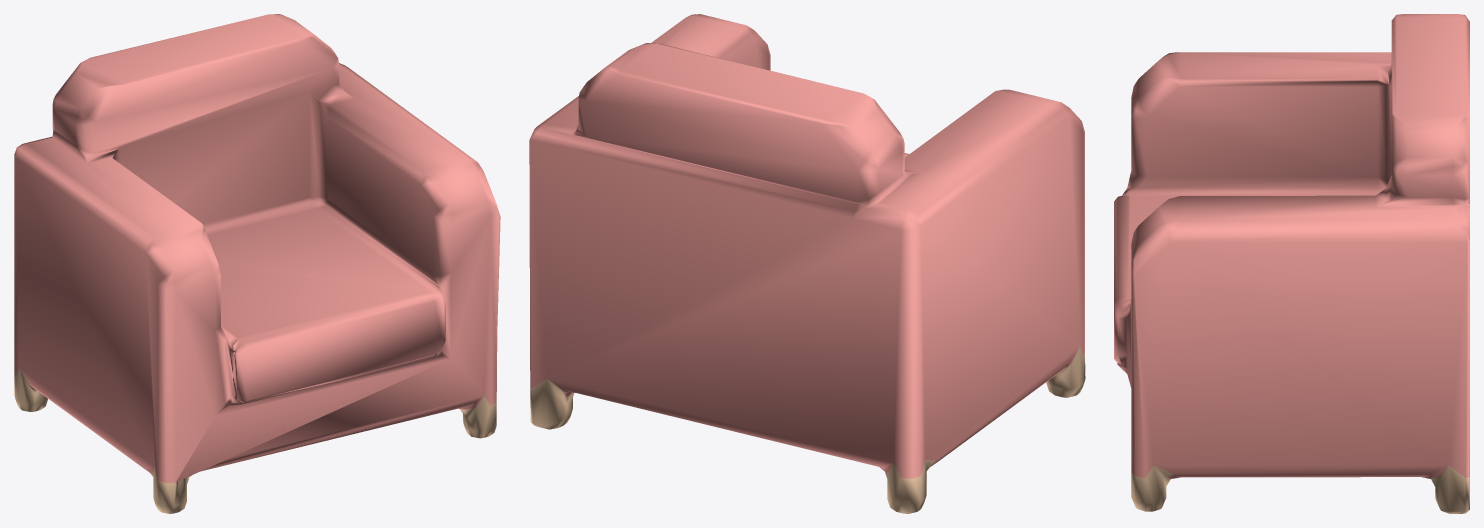
The model's file is armchair.glb.
3 renders of one model, left to right at view 1: azimuth 30°, elevation 25°; view 2: azimuth 150°, elevation 25°; view 3: azimuth 270°, elevation 25°, orthographic. The views are drawn at different scales.
Parts seen in each view (by area): view 1: armchair_loungeChair(Clone); view 2: armchair_loungeChair(Clone); view 3: armchair_loungeChair(Clone).
Boxes of the visible parts, bbox=[...] form: armchair_loungeChair(Clone): bbox=[14, 14, 500, 513]; armchair_loungeChair(Clone): bbox=[529, 14, 1085, 513]; armchair_loungeChair(Clone): bbox=[1114, 14, 1469, 513].
Size of the model in its own units: 1.37 by 1.29 by 1.15.
